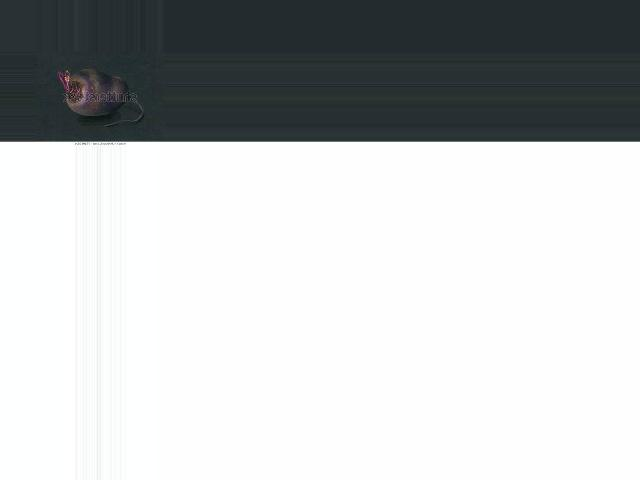beet: (54, 68, 143, 126)
